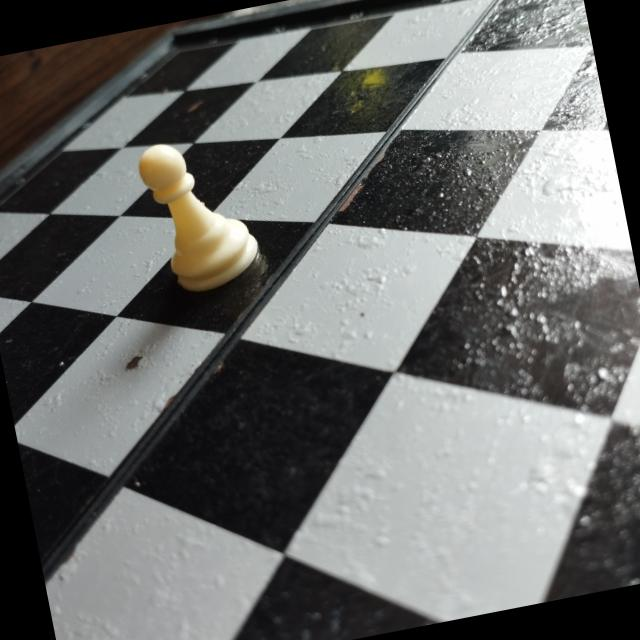White Pawn: (130, 123, 270, 304)
